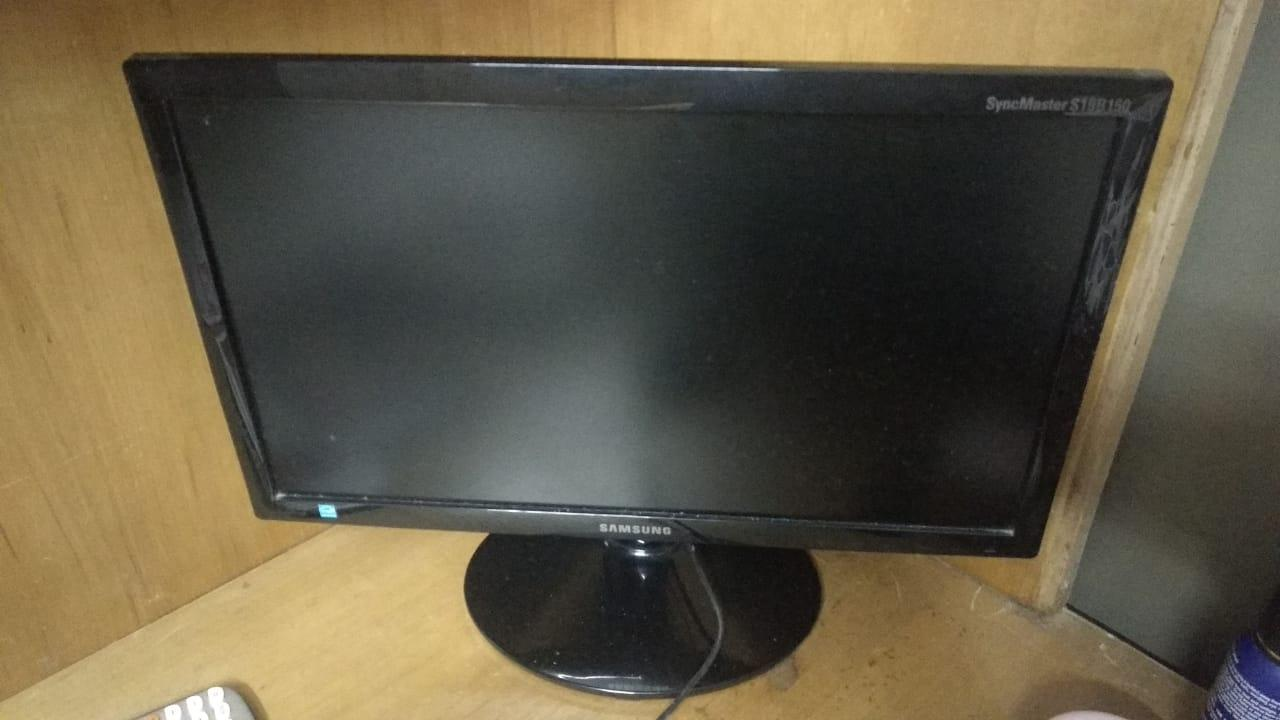monitor: (116, 39, 1188, 718)
